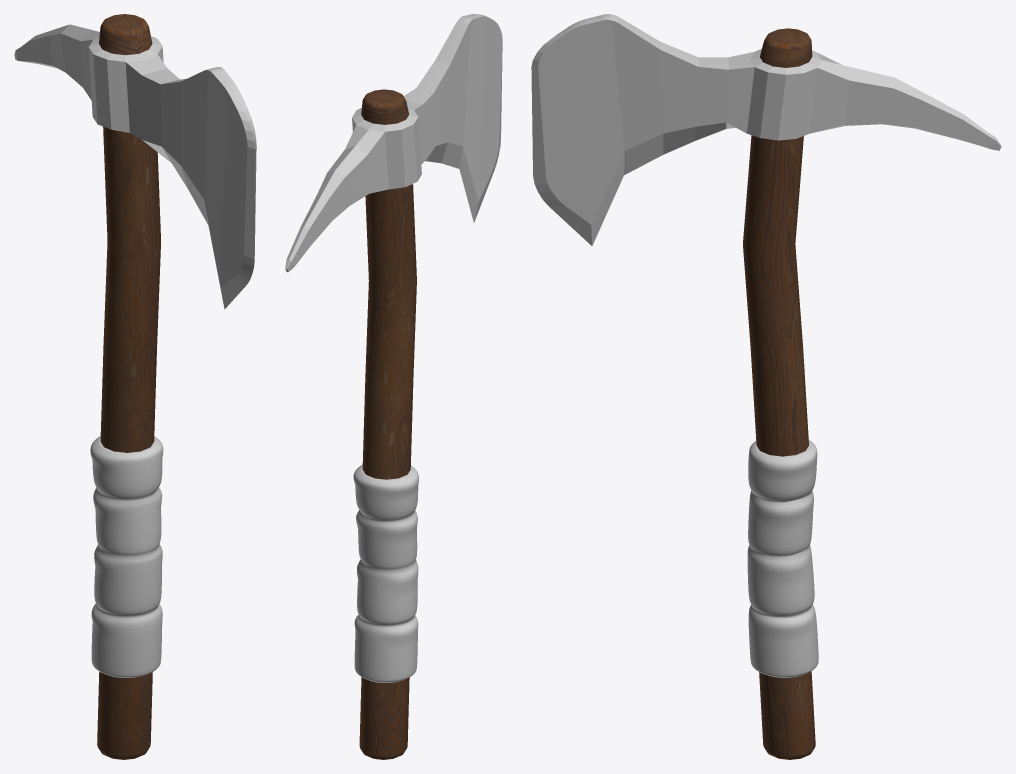
Rendered from axe.fbx.
3 renders of one model, left to right at view 1: azimuth 30°, elevation 25°; view 2: azimuth 150°, elevation 25°; view 3: azimuth 270°, elevation 25°, orthographic. The views are drawn at different scales.
Parts seen in each view (by area): view 1: WoodAxeBlade, WoodAxeStick, pickAxe-high.handle; view 2: WoodAxeBlade, WoodAxeStick, pickAxe-high.handle; view 3: WoodAxeBlade, WoodAxeStick, pickAxe-high.handle.
Boxes of the visible parts, bbox=[...] form: WoodAxeBlade: bbox=[14, 24, 256, 309]; WoodAxeStick: bbox=[97, 14, 160, 759]; pickAxe-high.handle: bbox=[90, 436, 163, 677]; WoodAxeBlade: bbox=[285, 14, 502, 272]; WoodAxeStick: bbox=[359, 89, 416, 759]; pickAxe-high.handle: bbox=[353, 465, 418, 682]; WoodAxeBlade: bbox=[531, 14, 1001, 245]; WoodAxeStick: bbox=[743, 28, 815, 759]; pickAxe-high.handle: bbox=[747, 440, 818, 677].
Size of the model in its own units: 12.94 by 145 by 83.79.
